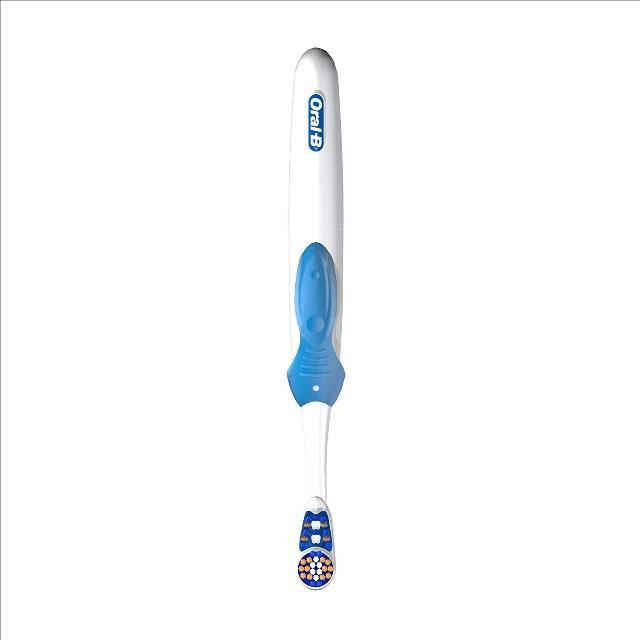toothbrush: (239, 24, 369, 600)
